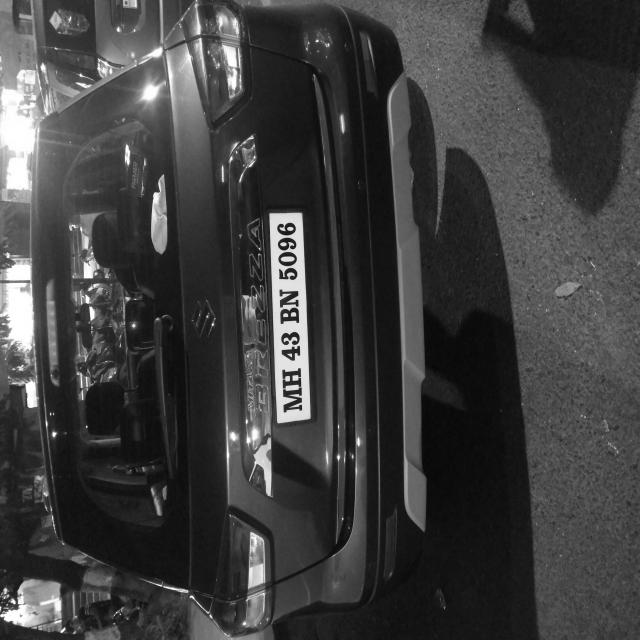car: (3, 21, 480, 607)
license-plate: (152, 357, 326, 414)
